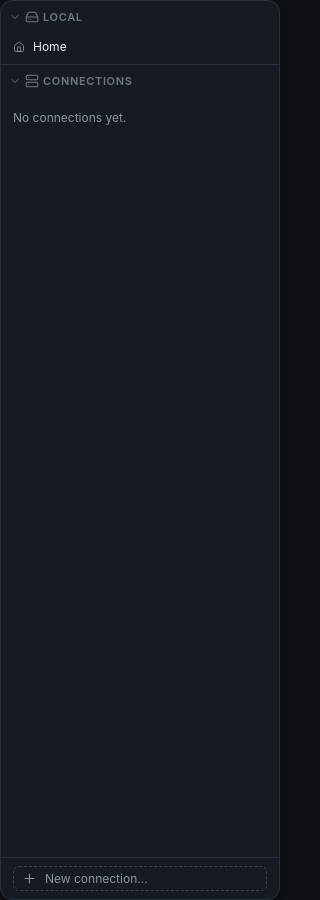
Sidebar › collapses and expands the Connections section
The width and height of the screenshot is (320, 900).
Click the button "Connections".
click(138, 81)  # box [9,72,267,89]
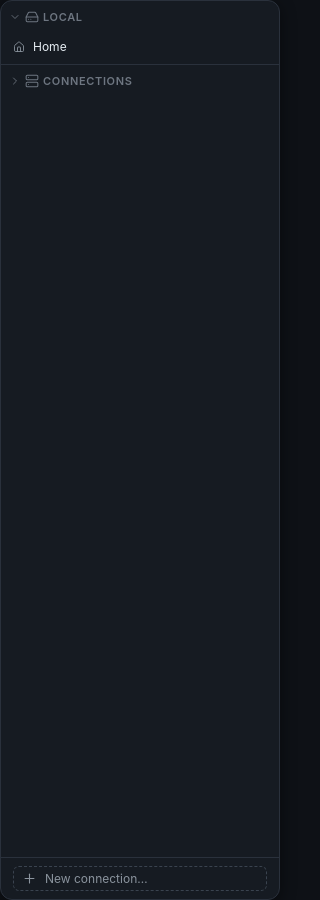
Now the button "Connections" is collapsed
Click the button "Connections".
click(138, 81)  # box [9,72,267,89]
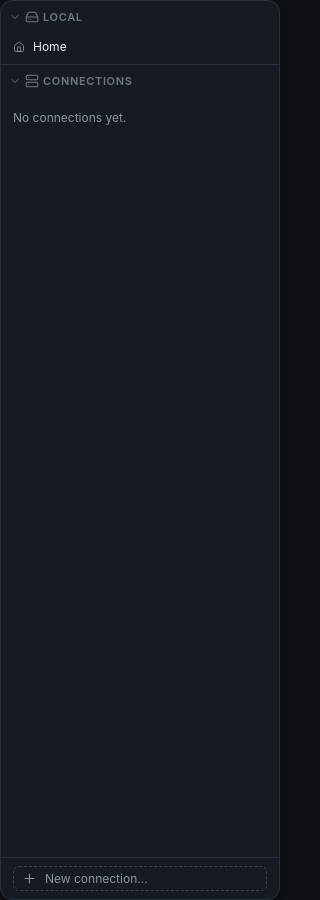
Now the button "Connections" is expanded, box [9,72,267,89]
